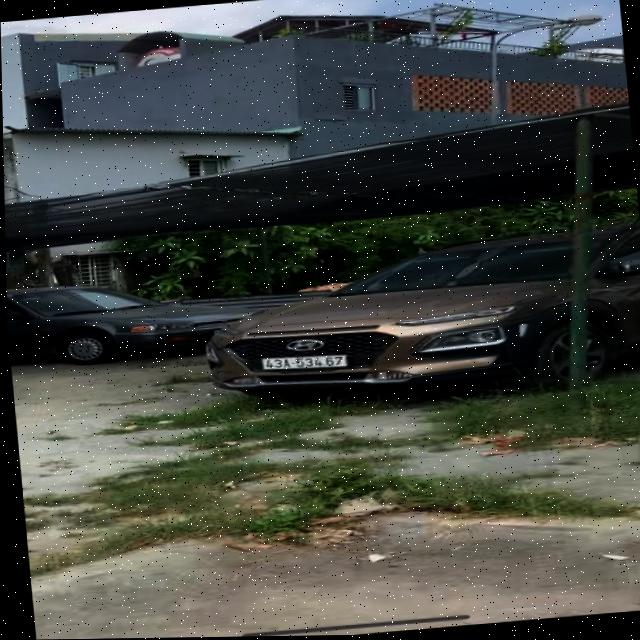car: (195, 220, 640, 425), (6, 262, 236, 378)
plate: (255, 344, 354, 381)
